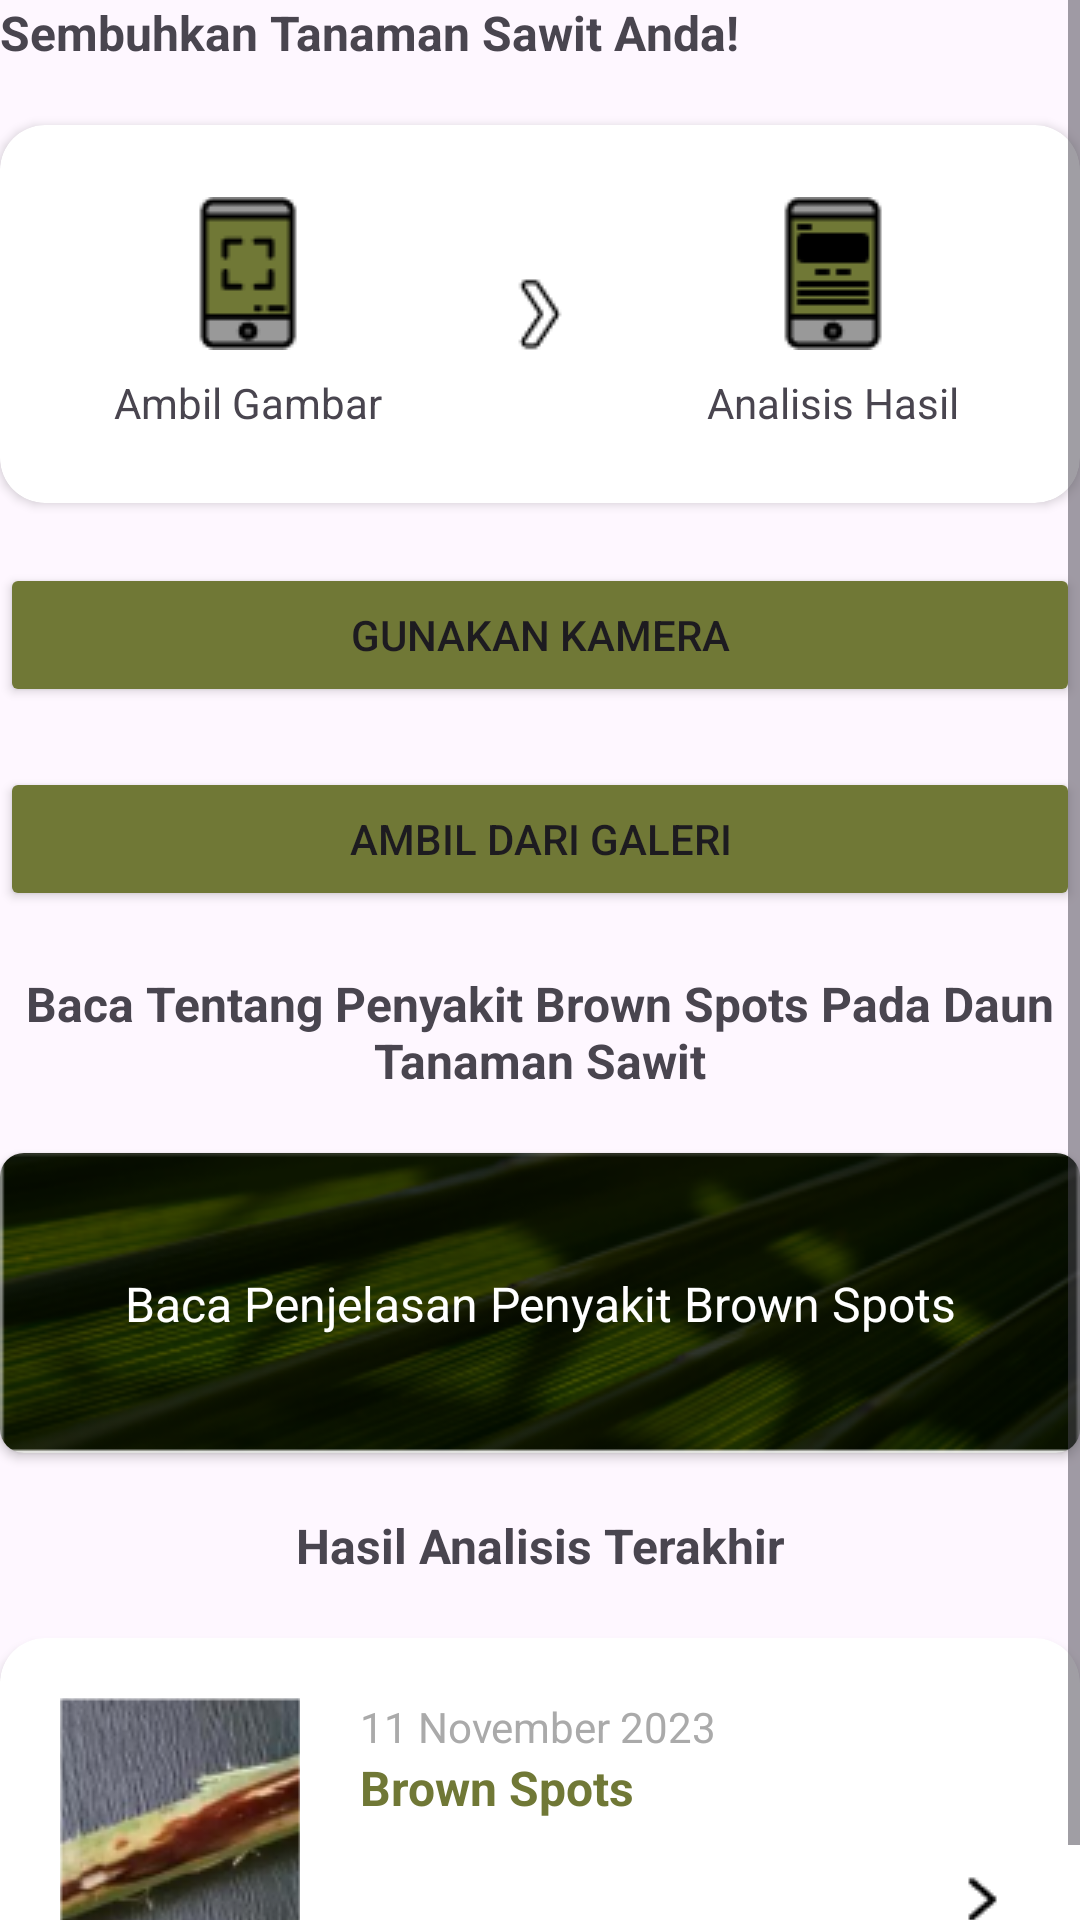

Icons on this 1080px×1920px Android screen, each with the point to tap as [x,y]:
homescreen arrow: [540,314]
